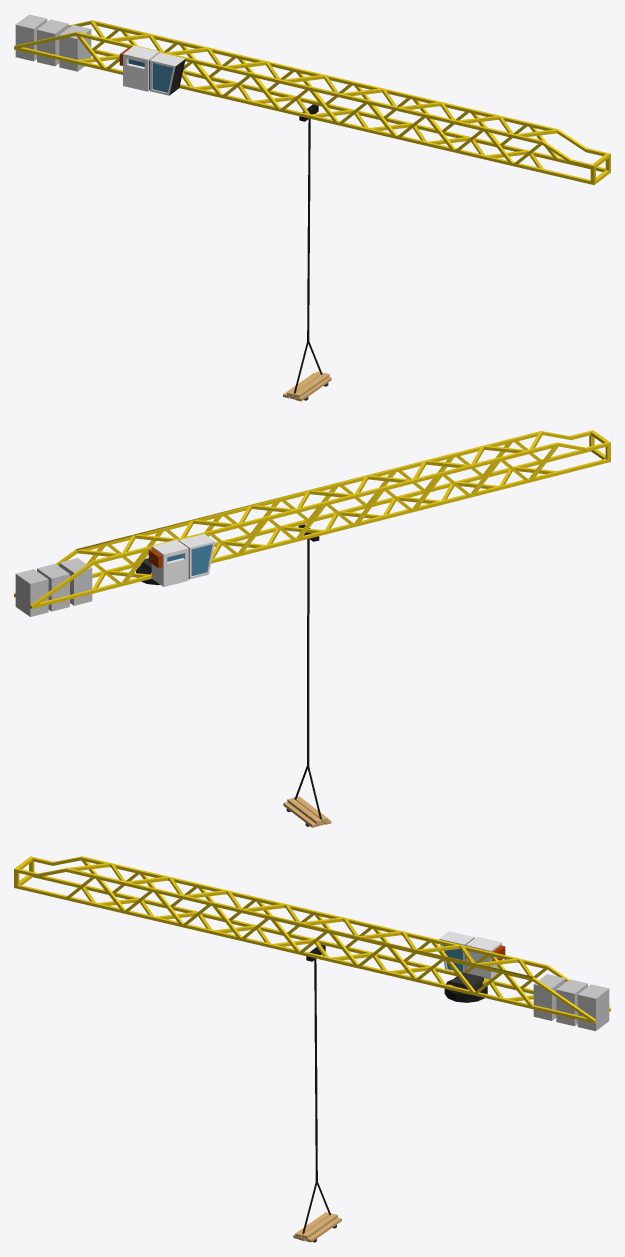
File: Crane_head.glb
3 renders of one model, top to bottom at view 1: azimuth 90°, elevation 25°; view 2: azimuth 150°, elevation 25°; view 3: azimuth 270°, elevation 25°, orthographic.
Visible parts, largest first — view 1: Crane Ground.001; view 2: Crane Ground.001; view 3: Crane Ground.001.
Boxes of the visible parts, x1,y1,x2,y2 form: Crane Ground.001: (14, 14, 610, 401); Crane Ground.001: (14, 430, 610, 827); Crane Ground.001: (14, 856, 610, 1242).
Size of the model in its own units: 24.48 by 24.1 by 41.61.
1 material, 1 textured.
